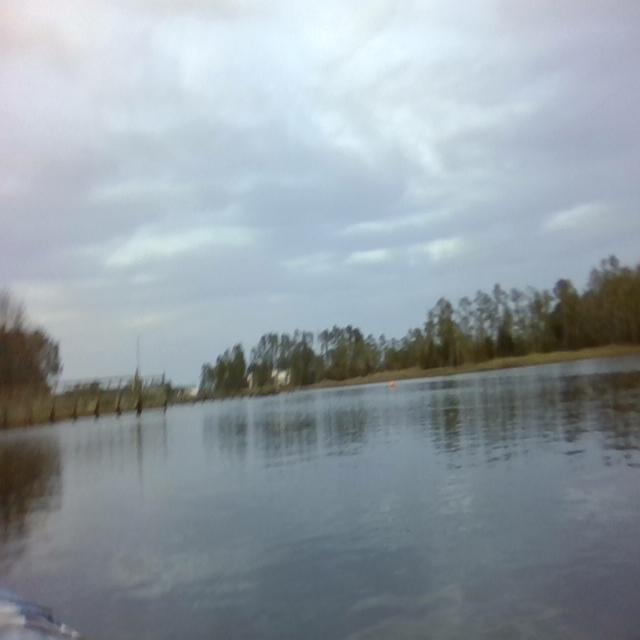Buoy: (389, 378, 395, 390)
